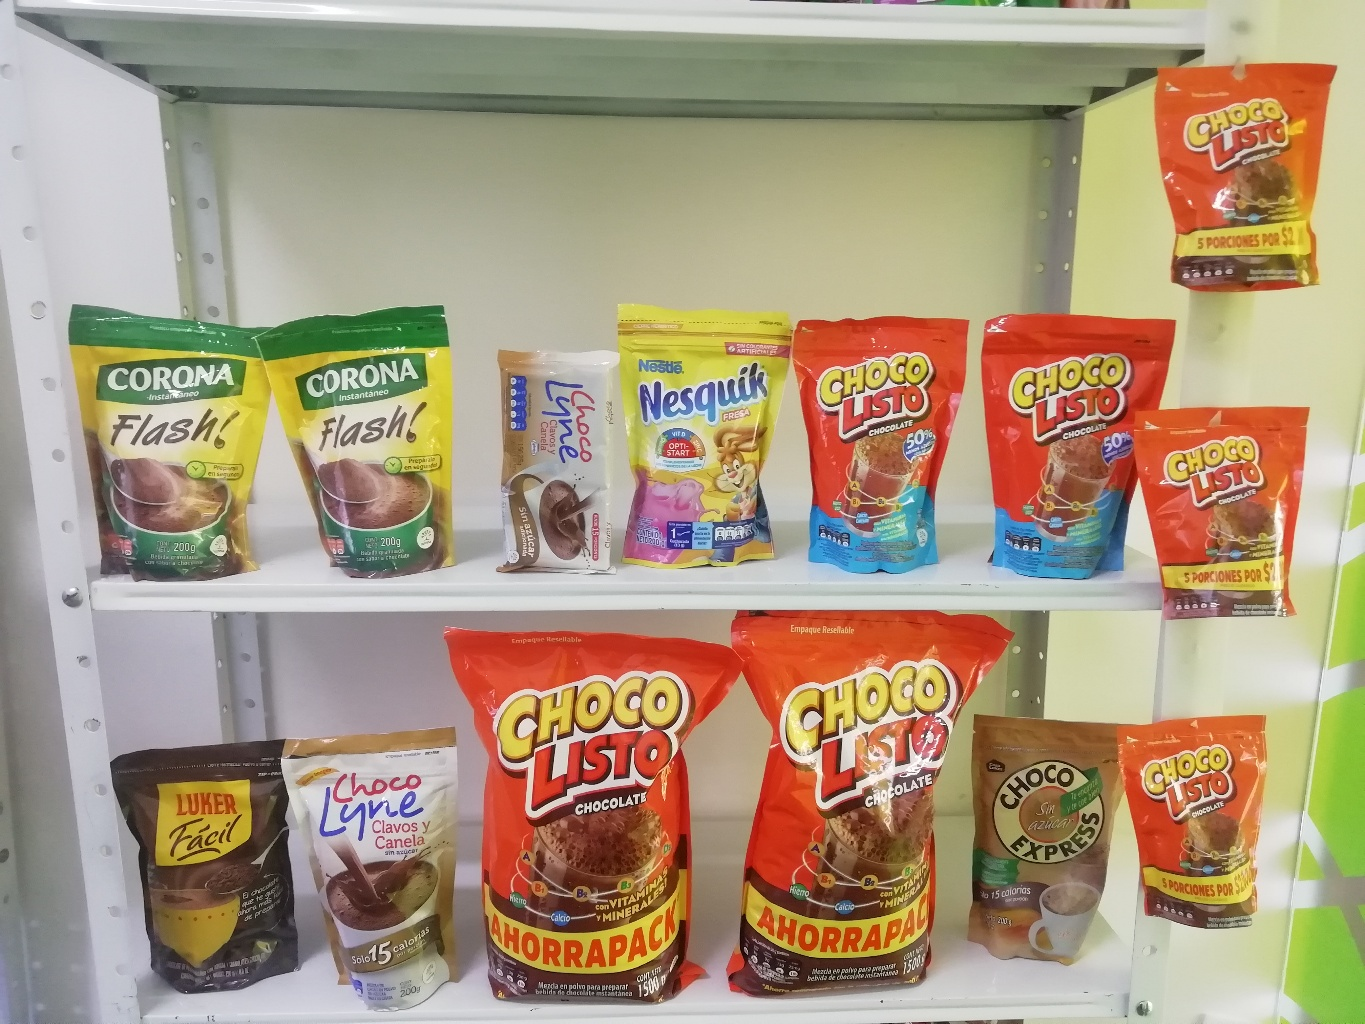COL0170103DYP1,500: (707, 594, 992, 1007)
COL0170104DYP20000: (966, 305, 1172, 584)
COL0170305DYP20000: (596, 298, 806, 577)
